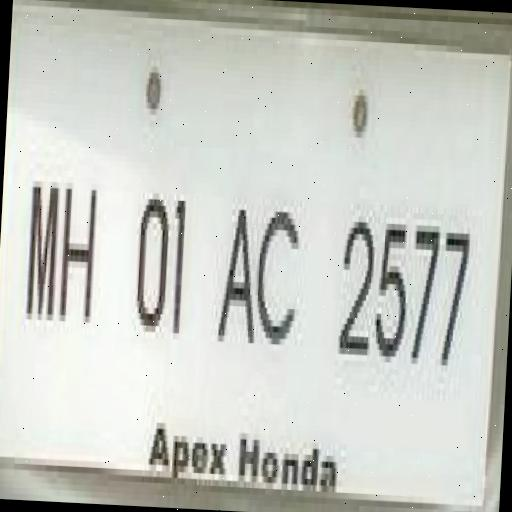number plate: (0, 19, 493, 496)
